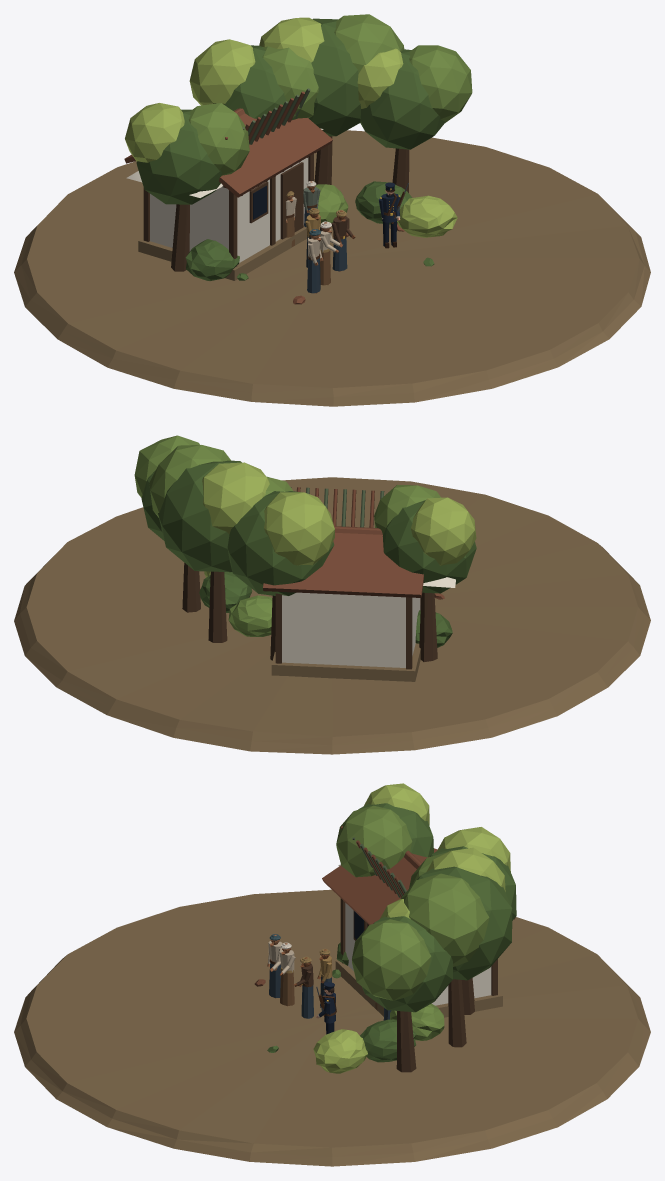
Rendered from 8.Penarikan_Pajak_Kolonial_Banten_1888.glb.
3 renders of one model, top to bottom at view 1: azimuth 30°, elevation 25°; view 2: azimuth 150°, elevation 25°; view 3: azimuth 270°, elevation 25°, orthographic.
Parts seen in each view (by area): view 1: Banten_Village_Environment, Traditional_Banten_House, Dutch_Colonial_Soldier, Villager_FarLeft_BlueIket, Villager_Center_BrownShirt, Villager_Foreground_Left_WhiteIket; view 2: Banten_Village_Environment, Traditional_Banten_House; view 3: Banten_Village_Environment, Traditional_Banten_House, Villager_Foreground_Left_WhiteIket, Villager_Center_BrownShirt, Villager_FarLeft_BlueIket, Dutch_Colonial_Soldier.
Boxes of the visible parts, x1,y1,x2,y2 form: Banten_Village_Environment: (14,14,650,406); Traditional_Banten_House: (124,88,332,280); Dutch_Colonial_Soldier: (379,183,408,248); Villager_FarLeft_BlueIket: (307,229,321,293); Villager_Center_BrownShirt: (331,210,349,271); Villager_Foreground_Left_WhiteIket: (320,222,332,285); Banten_Village_Environment: (14,435,650,754); Traditional_Banten_House: (263,487,455,681); Banten_Village_Environment: (14,783,650,1166); Traditional_Banten_House: (322,826,515,1017); Villager_Foreground_Left_WhiteIket: (277,943,295,1006); Villager_Center_BrownShirt: (300,957,313,1018); Villager_FarLeft_BlueIket: (268,934,282,998); Dutch_Colonial_Soldier: (316,986,336,1034).
Bounding box in the file's own units: 14.99 × 5.08 × 15.01.
